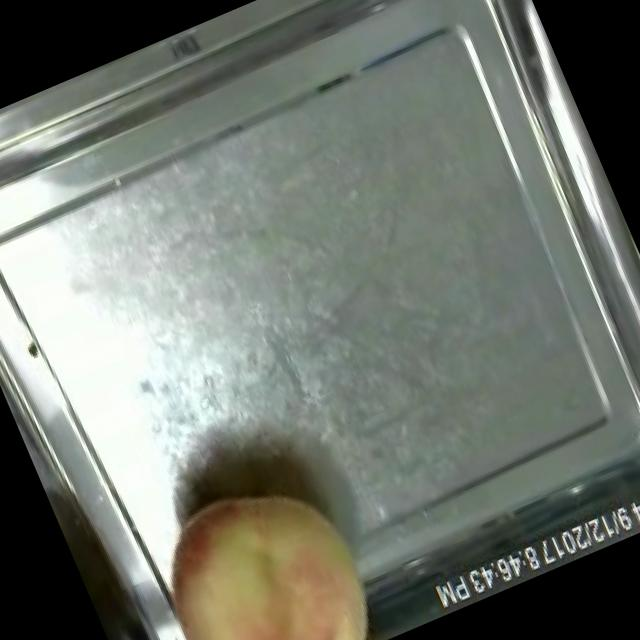Fruit: (113, 442, 400, 640)
